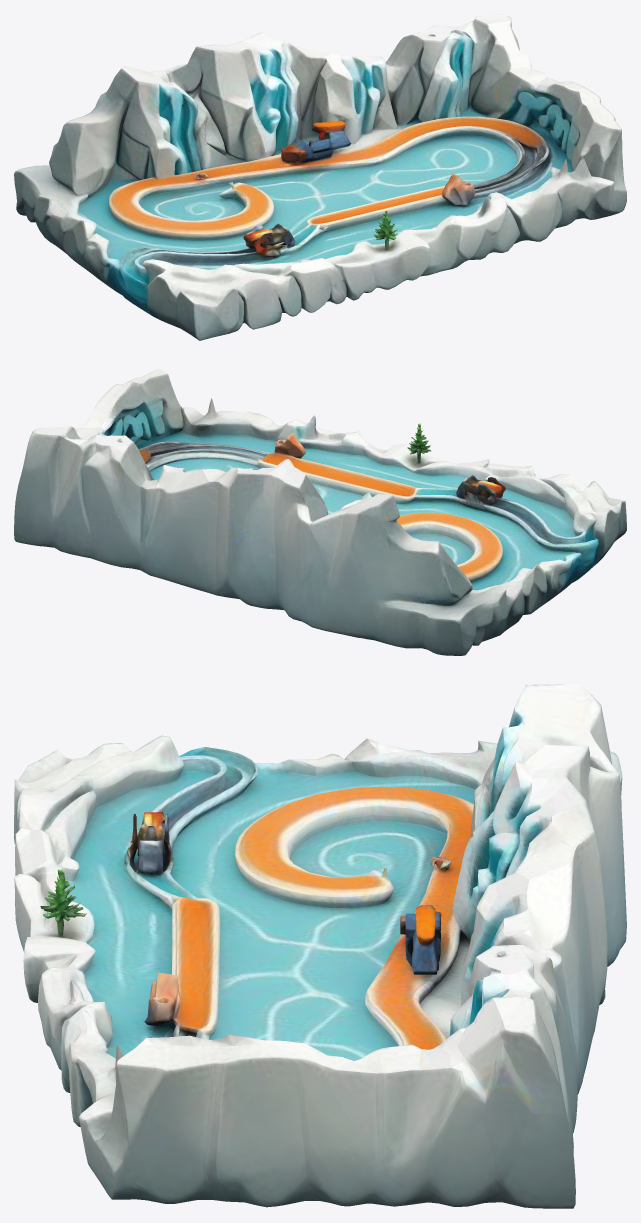
Rendered from glacier.glb.
The picture shows the model from 3 angles, top to bottom: view 1: azimuth 30°, elevation 25°; view 2: azimuth 150°, elevation 25°; view 3: azimuth 270°, elevation 25°; orthographic projection. The views are drawn at different scales.
Parts seen in each view (by area): view 1: model; view 2: model; view 3: model.
Boxes of the visible parts, x1,y1,x2,y2 form: model: (14, 14, 626, 340); model: (14, 369, 626, 655); model: (14, 684, 626, 1208).
Size of the model in its own units: 36 by 9.86 by 23.29.
1 material, 1 textured.
